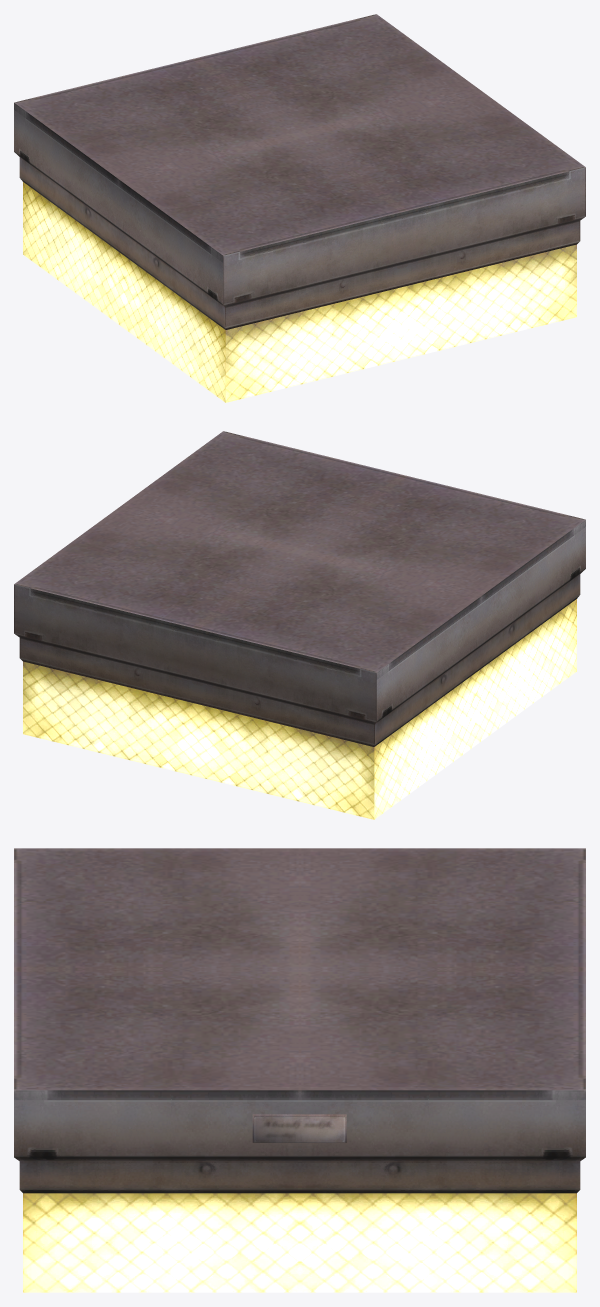
Rendered from flourescent_ceiling_small.dae.
3 renders of one model, top to bottom at view 1: azimuth 30°, elevation 25°; view 2: azimuth 150°, elevation 25°; view 3: azimuth 270°, elevation 25°, orthographic. The views are drawn at different scales.
Parts seen in each view (by area): view 1: flourescent_ceiling_small; view 2: flourescent_ceiling_small; view 3: flourescent_ceiling_small.
Boxes of the visible parts, box(x1,y1,x2,y2) form: flourescent_ceiling_small: box(14, 14, 585, 402); flourescent_ceiling_small: box(14, 431, 585, 819); flourescent_ceiling_small: box(14, 848, 585, 1292).
Bounding box in the file's own units: 36.29 × 14.36 × 36.12.
